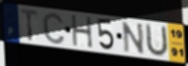5: (96, 18, 115, 51)
C: (41, 11, 67, 46)
H: (70, 15, 95, 50)
N: (120, 21, 146, 56)
T: (20, 8, 40, 43)
U: (145, 22, 169, 58)
